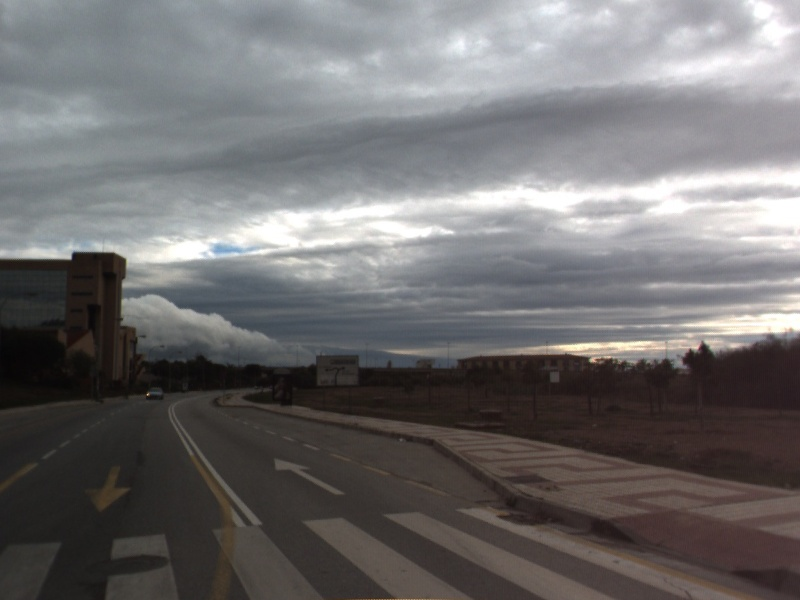STRAIGHT: (272, 455, 349, 497)
